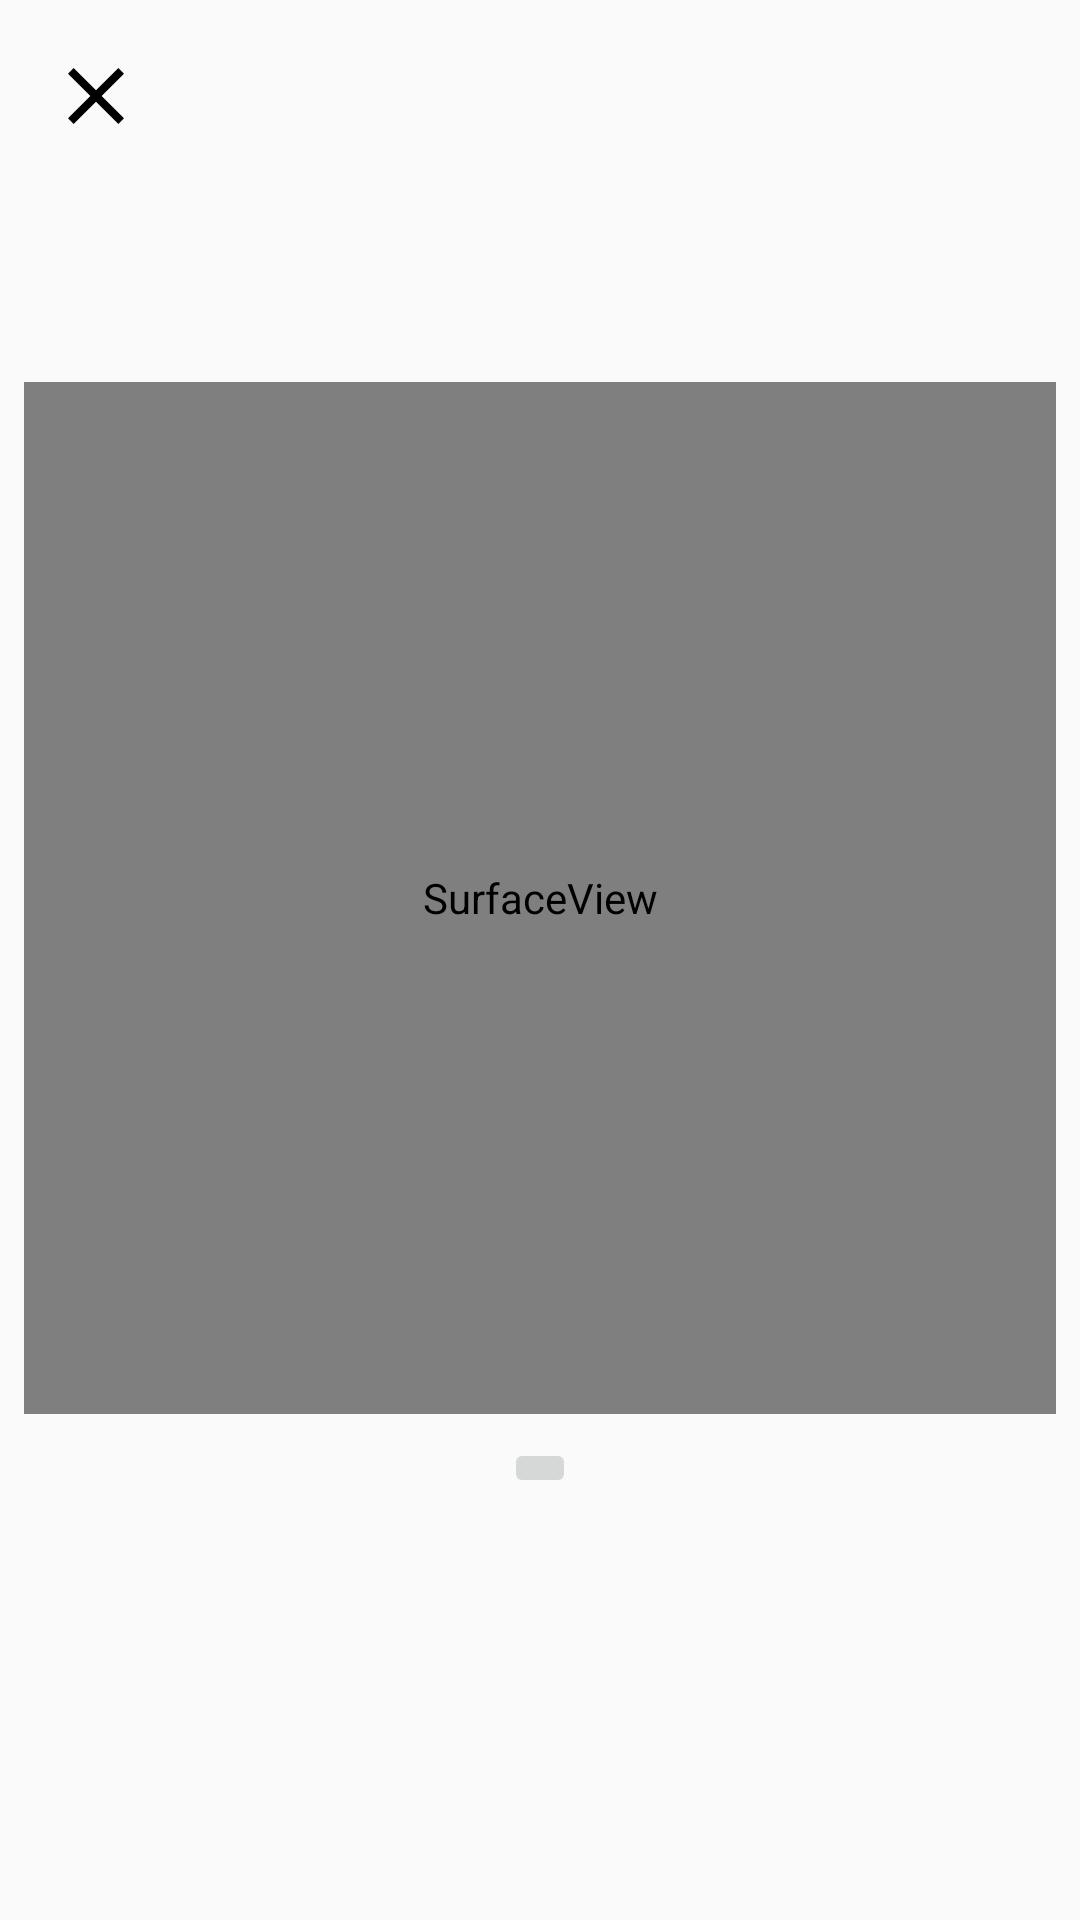

Locate icon controls on the screen. Image size 1080x1920, boxes as (x1, y1, x2, y2).
close: (68, 68, 124, 124)
